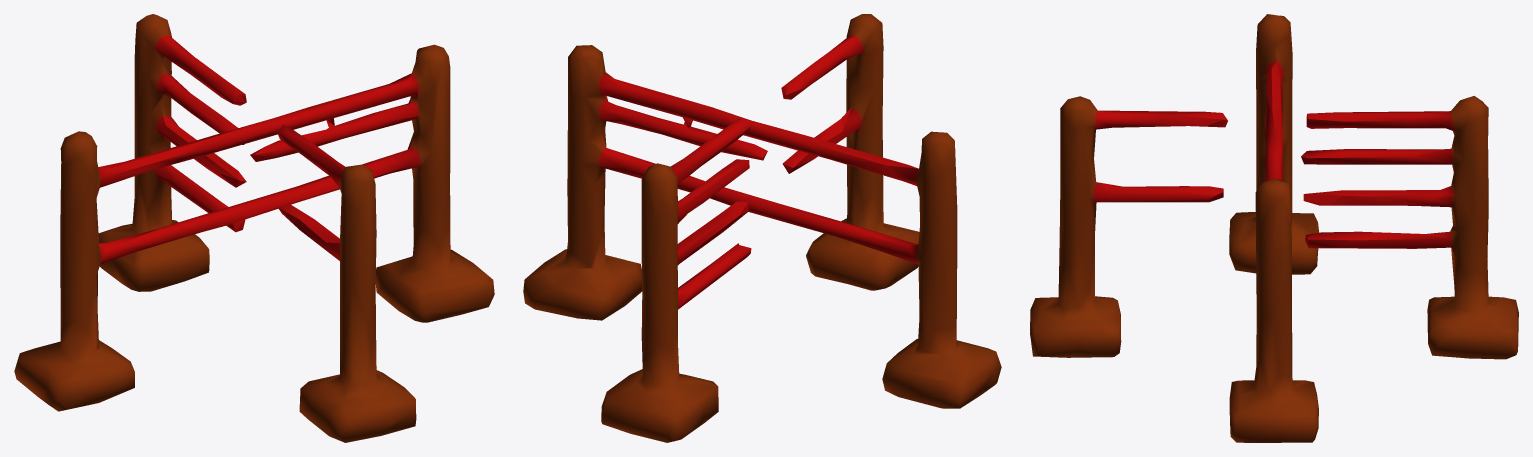
The model's file is laser-active.glb.
3 views of the same model, side by side, from view 1: azimuth 30°, elevation 25°; view 2: azimuth 150°, elevation 25°; view 3: azimuth 270°, elevation 25° (orthographic). The views are drawn at different scales.
Parts seen in each view (by area): view 1: geometry_0.001; view 2: geometry_0.001; view 3: geometry_0.001.
Boxes of the visible parts, x1,y1,x2,y2 form: geometry_0.001: [14, 14, 494, 442]; geometry_0.001: [523, 14, 1001, 442]; geometry_0.001: [1030, 14, 1518, 442].
Size of the model in its own units: 0.9994 by 0.5541 by 0.9997.
Materials: 1 (1 with a texture image).
